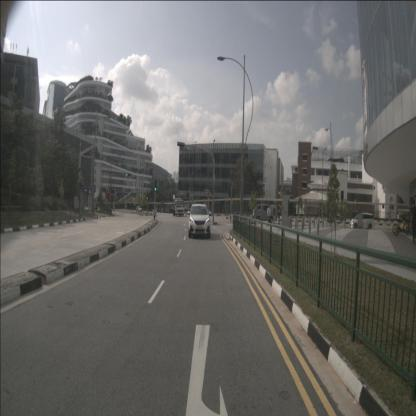human-pedestrian-adult: (410, 199, 416, 244), (266, 203, 272, 227), (273, 205, 276, 223)
vehicle-car: (188, 203, 211, 237), (252, 203, 277, 222), (350, 213, 374, 230), (136, 205, 142, 213)
vehicle-truck: (172, 198, 184, 216)
